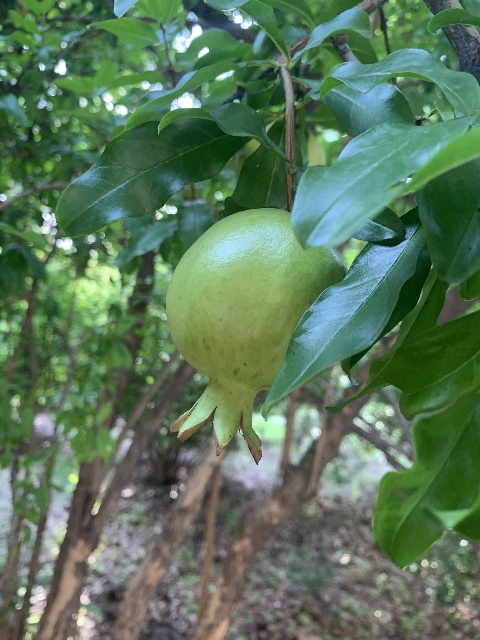mid-growth: (166, 207, 350, 466)
